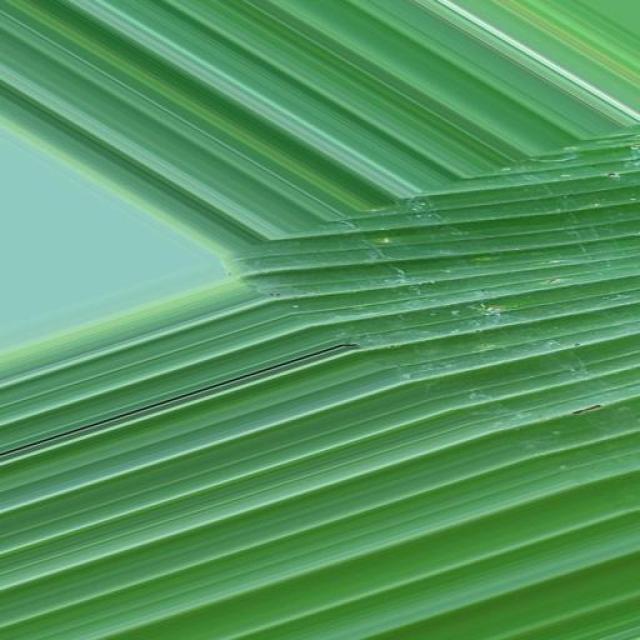Black_rot: (374, 206, 632, 419)
